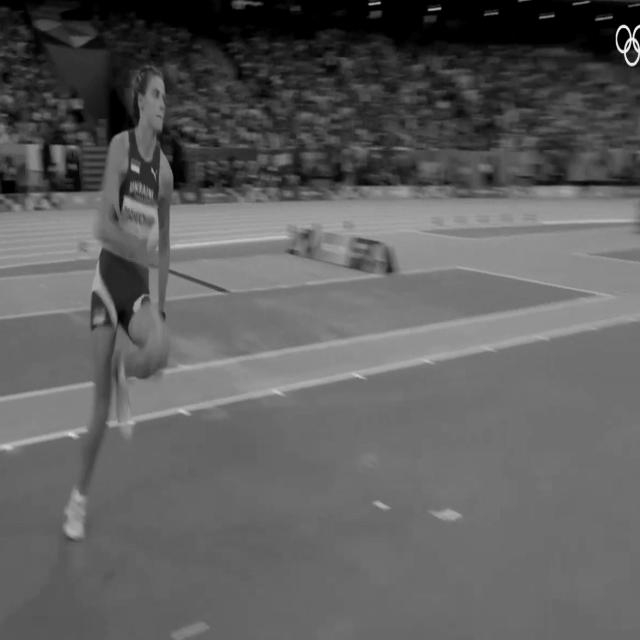run: (54, 58, 174, 540)
